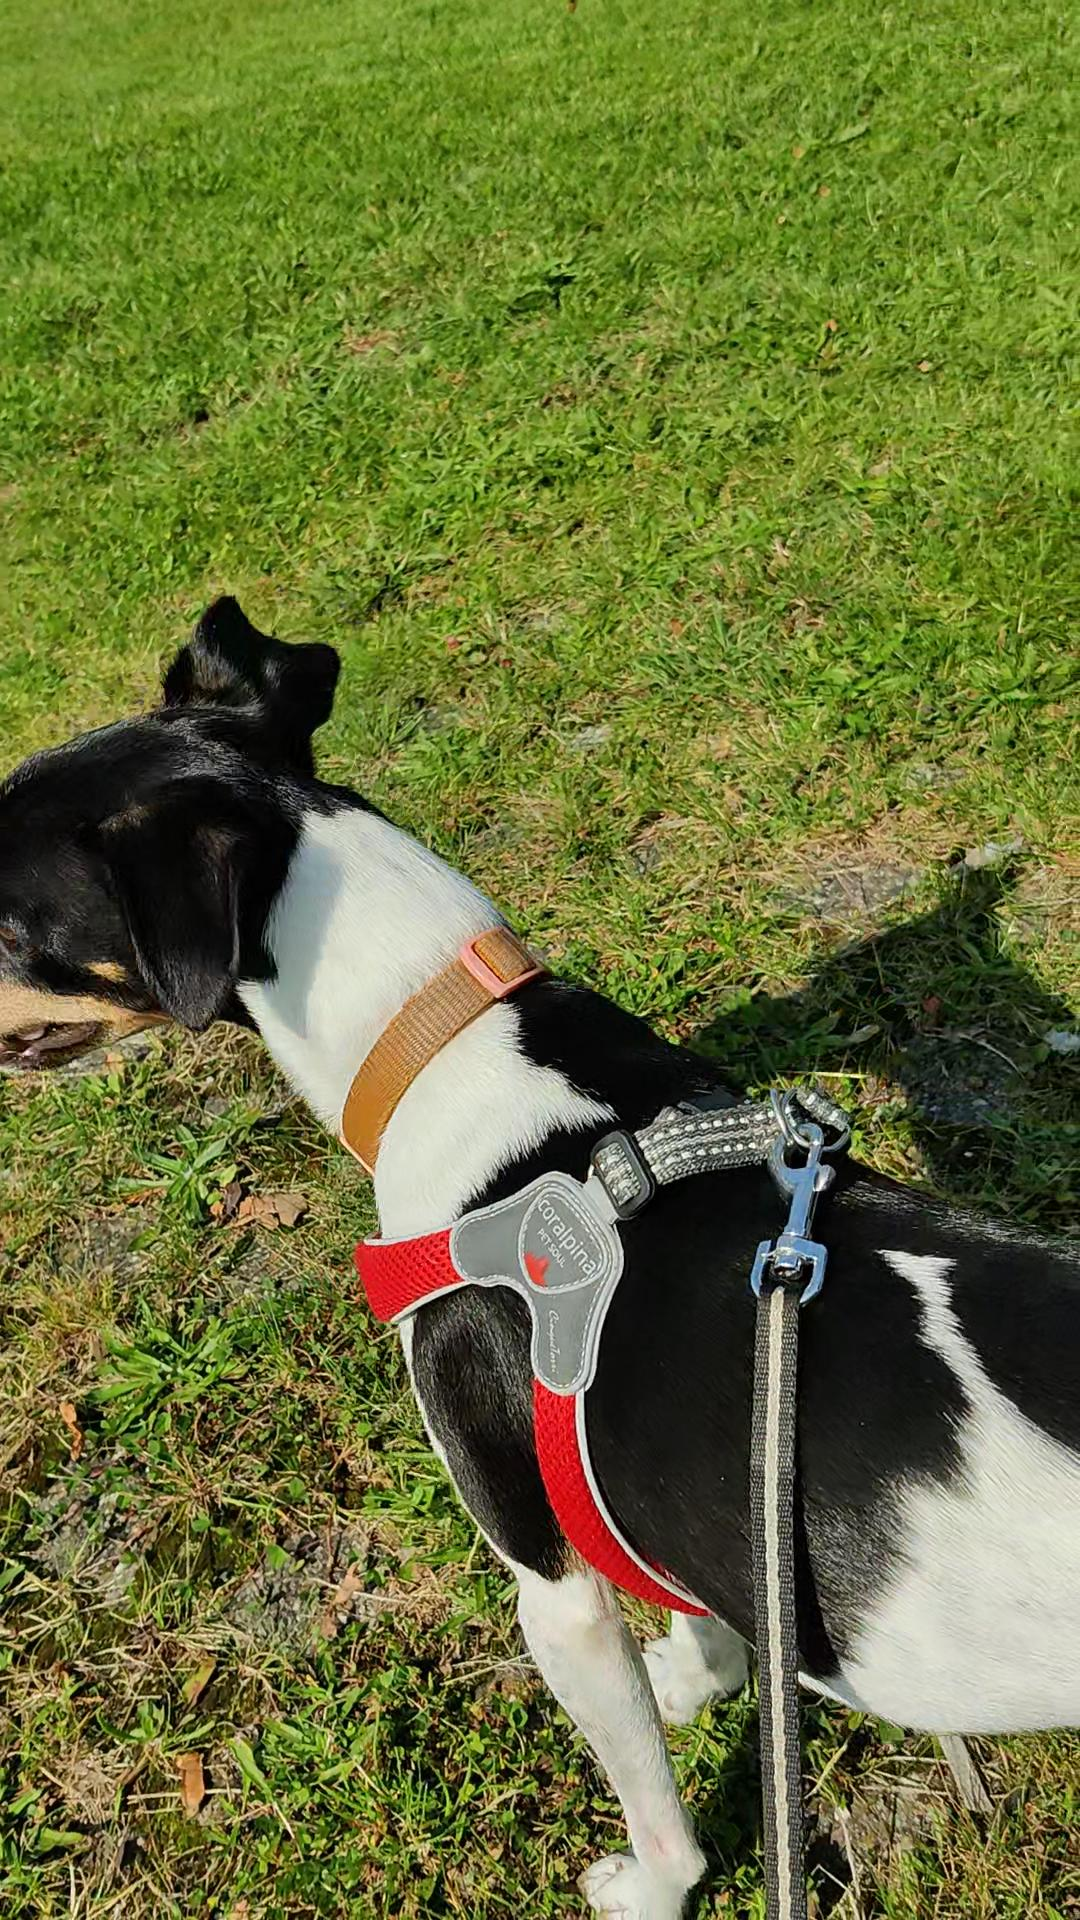Dog: (0, 574, 1079, 1919)
